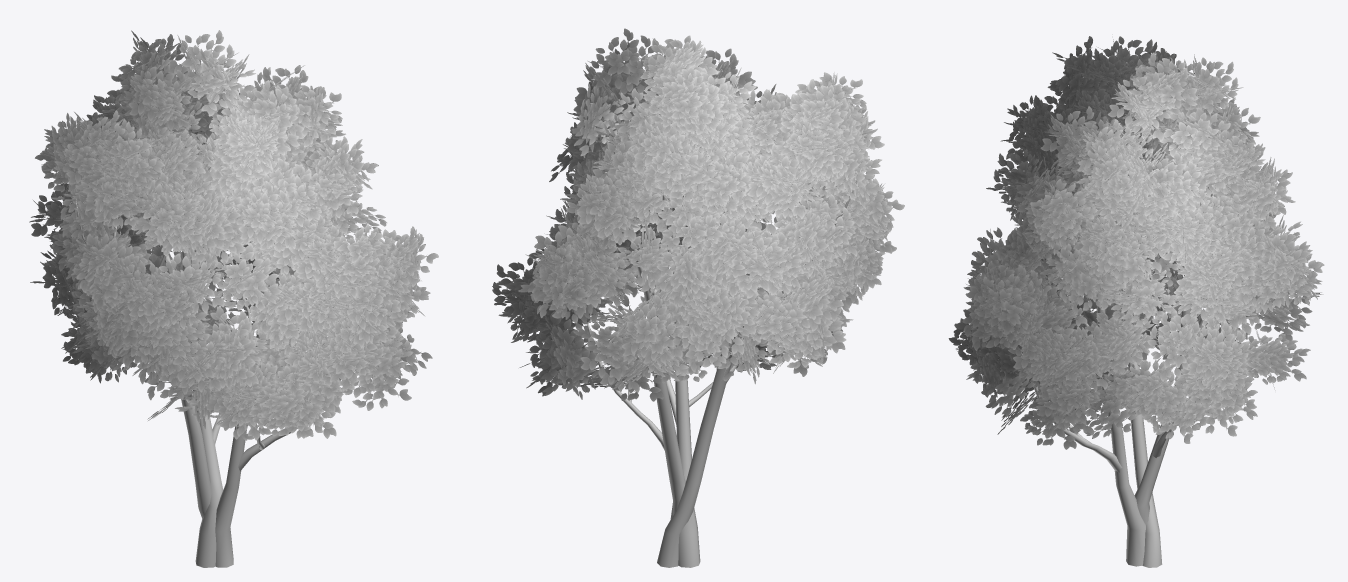
File: Birch_04.fbx
3 views of the same model, side by side, from view 1: azimuth 30°, elevation 25°; view 2: azimuth 150°, elevation 25°; view 3: azimuth 270°, elevation 25° (orthographic). The views are drawn at different scales.
Visible parts, largest first — view 1: Birch_04_LOD0; view 2: Birch_04_LOD0; view 3: Birch_04_LOD0.
Part boxes in pixels (x1,y1,x2,y2): Birch_04_LOD0: [29, 30, 438, 567]; Birch_04_LOD0: [492, 28, 904, 567]; Birch_04_LOD0: [948, 36, 1324, 567].
Size of what is drawn, in the model's own units: 8662 by 12596 by 8851.
